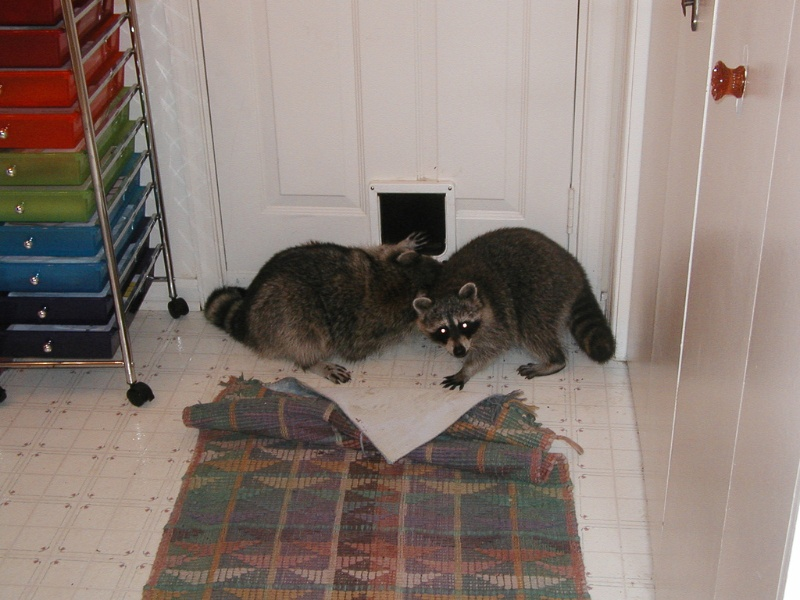raccoon: (204, 235, 428, 395), (420, 234, 605, 388)
